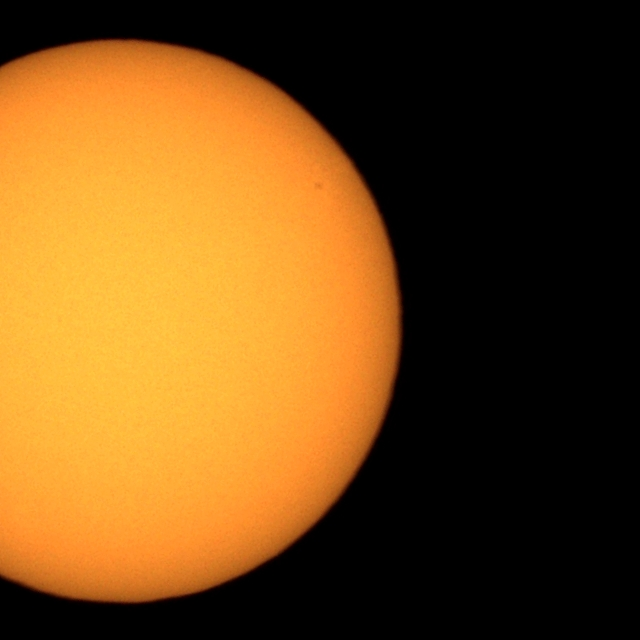sunspot: (313, 181, 324, 192)
